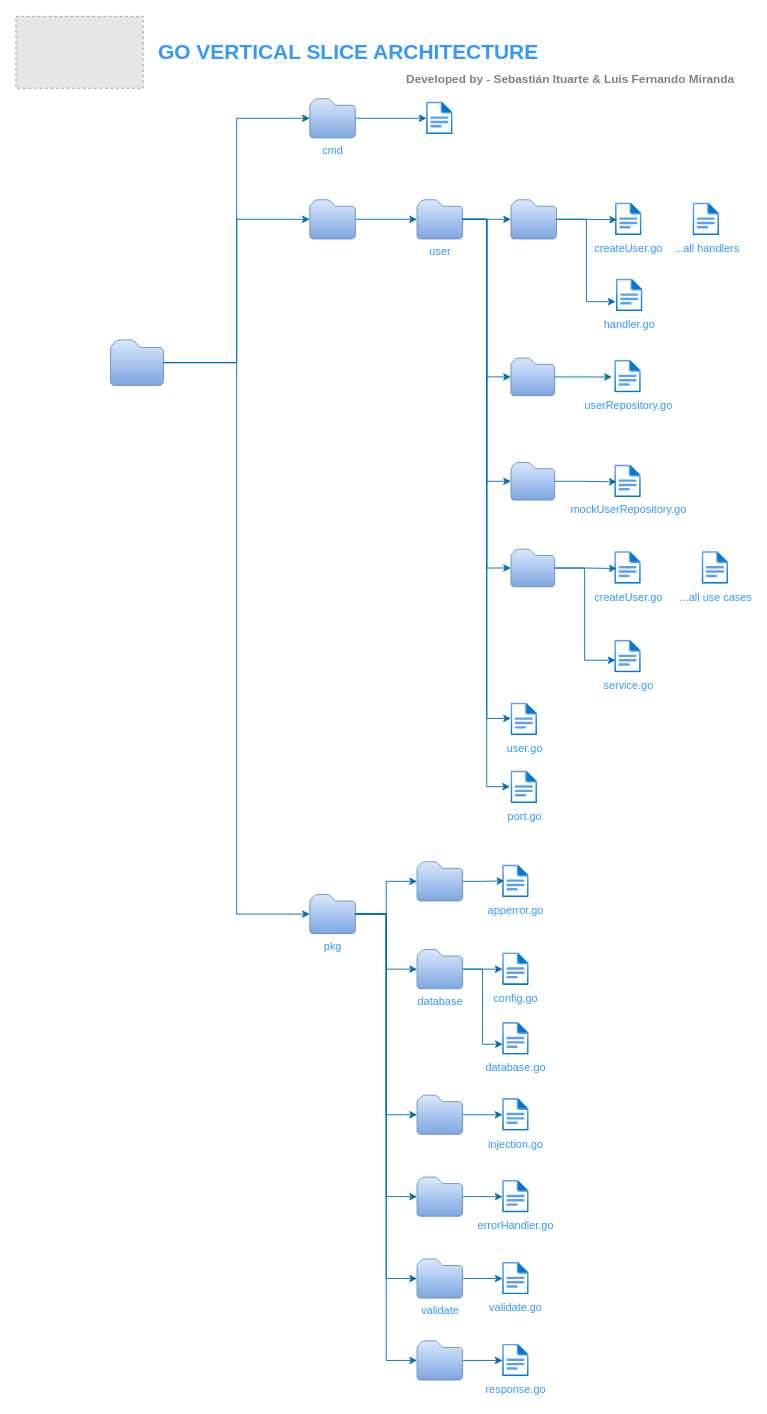
The diagram is 767 pixels wide and 1414 high, and some of its shapes have lost their labels. Grey dashed boxes stand in for pictures. The centre of each missing label's shape, as x and y in pixels:
apperror: the point at 439,881
go-vertical-slice-architecture: the point at 136,362
handler: the point at 533,219
infrastructure: the point at 532,376
injection: the point at 439,1114
internal: the point at 332,219
main.go: the point at 439,117
message: the point at 439,1360
middleware: the point at 439,1196
mock: the point at 532,481
service: the point at 532,567
